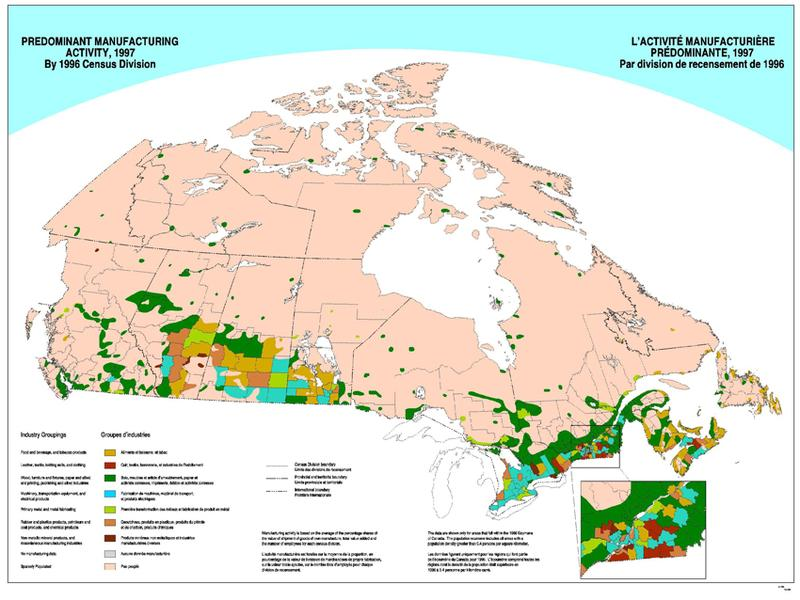legend: (99, 430, 231, 575)
